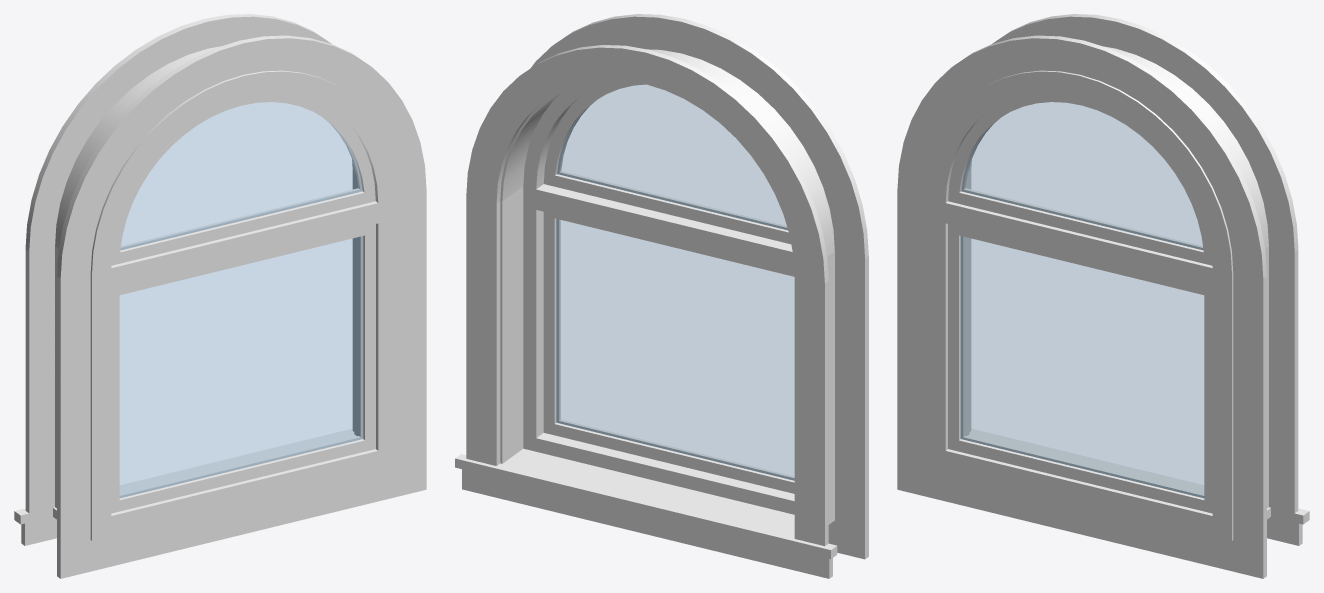
The model's file is windows.glb.
3 renders of one model, left to right at view 1: azimuth 30°, elevation 25°; view 2: azimuth 150°, elevation 25°; view 3: azimuth 330°, elevation 25°, orthographic.
Parts seen in each view (by area): view 1: mesh_0_3, mesh_0_2, mesh_0_1, mesh_0; view 2: mesh_0_3, mesh_0, mesh_0_2, mesh_0_1; view 3: mesh_0_3, mesh_0_2, mesh_0_1, mesh_0.
Boxes of the visible parts, x1,y1,x2,y2 form: mesh_0_3: (120, 102, 362, 497); mesh_0_2: (90, 70, 397, 540); mesh_0_1: (57, 35, 426, 578); mesh_0: (14, 14, 358, 545); mesh_0_3: (556, 85, 794, 480); mesh_0: (455, 45, 837, 578); mesh_0_2: (523, 49, 834, 524); mesh_0_1: (531, 14, 868, 559); mesh_0_3: (961, 102, 1203, 497); mesh_0_2: (926, 70, 1233, 540); mesh_0_1: (897, 35, 1266, 578); mesh_0: (965, 14, 1309, 545).
Bounding box in the file's own units: 1.1 × 1.38 × 0.2207.
